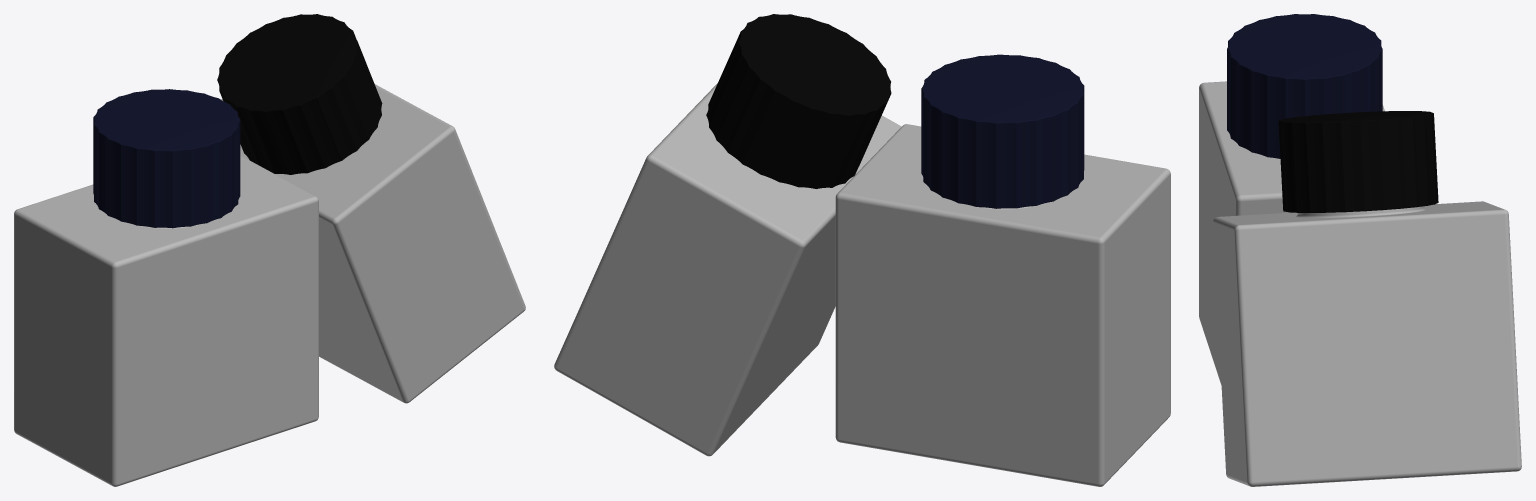
File: ink-bottle.fbx
3 renders of one model, left to right at view 1: azimuth 30°, elevation 25°; view 2: azimuth 150°, elevation 25°; view 3: azimuth 270°, elevation 25°, orthographic. The views are drawn at different scales.
Parts seen in each view (by area): view 1: 新型墨水瓶场景; view 2: 新型墨水瓶场景; view 3: 新型墨水瓶场景.
Boxes of the visible parts, x1,y1,x2,y2 form: 新型墨水瓶场景: (14,14,525,486); 新型墨水瓶场景: (554,14,1170,486); 新型墨水瓶场景: (1199,14,1521,486).
Bounding box in the file's own units: 11.06 × 7.81 × 6.41.
